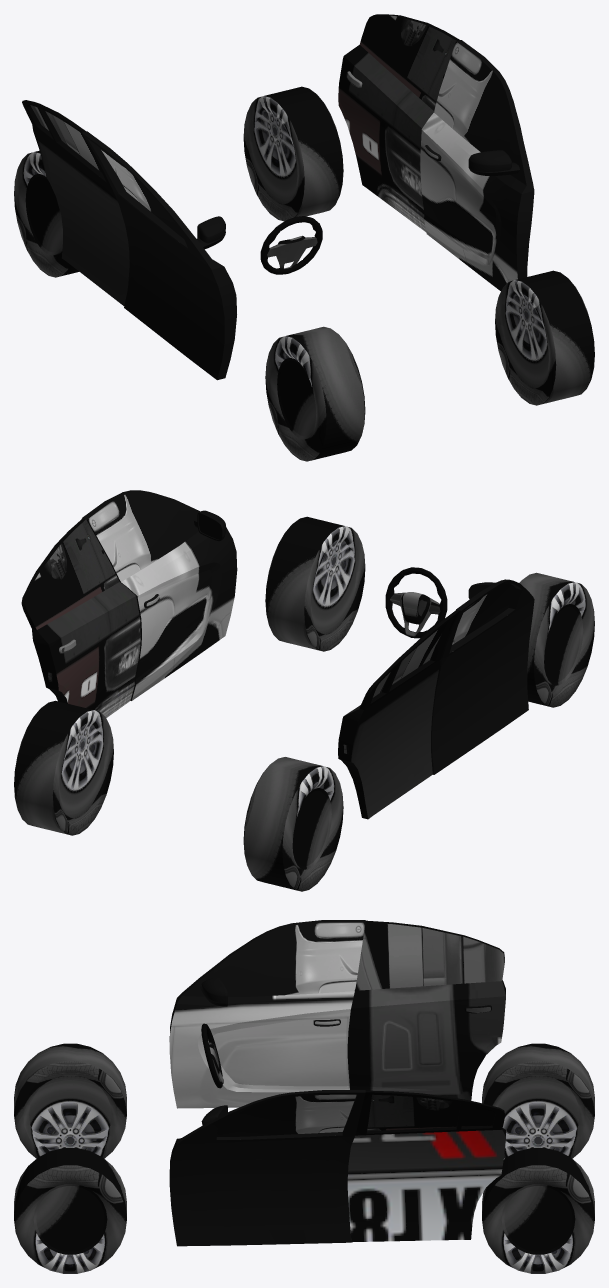
The model's file is Car_Sports.glb.
The picture shows the model from 3 angles, top to bottom: view 1: azimuth 30°, elevation 25°; view 2: azimuth 150°, elevation 25°; view 3: azimuth 270°, elevation 25°; orthographic projection. The views are drawn at different scales.
Parts seen in each view (by area): view 1: Car_Sports; view 2: Car_Sports; view 3: Car_Sports.
Boxes of the visible parts, bbox=[...] form: Car_Sports: bbox=[14, 14, 594, 461]; Car_Sports: bbox=[14, 490, 594, 891]; Car_Sports: bbox=[14, 920, 594, 1273].
Size of the model in its own units: 20.56 by 11.49 by 29.26.
Materials: 9 (9 with a texture image).
